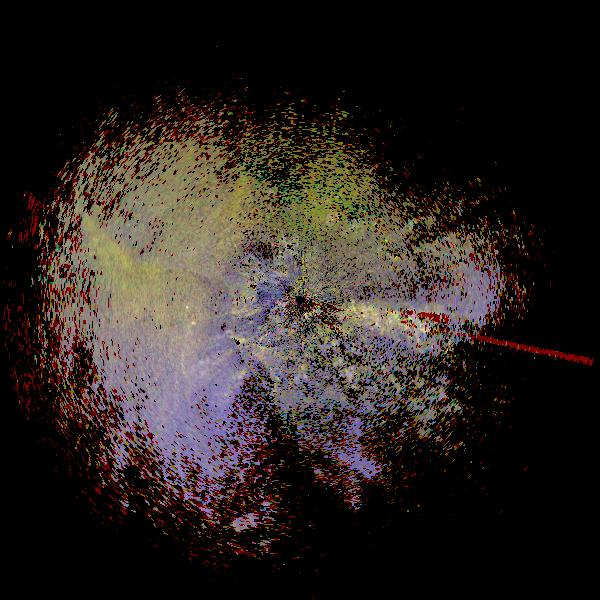roost: (337, 293, 376, 332)
